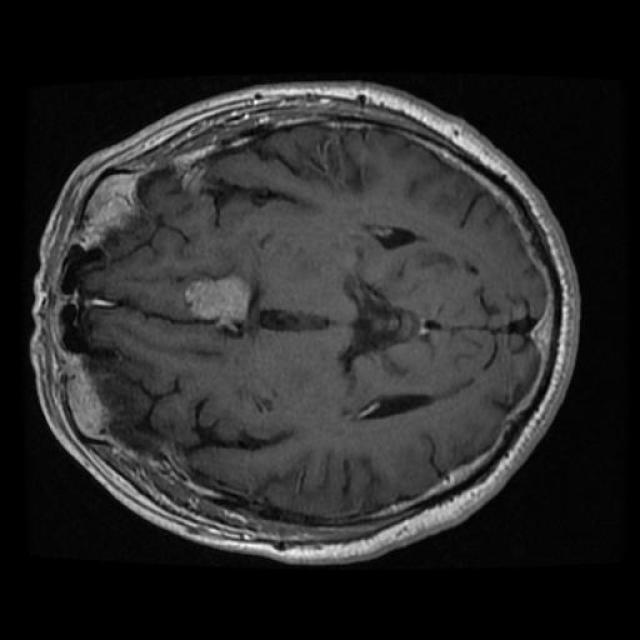Pituitary: (185, 275, 253, 332)
